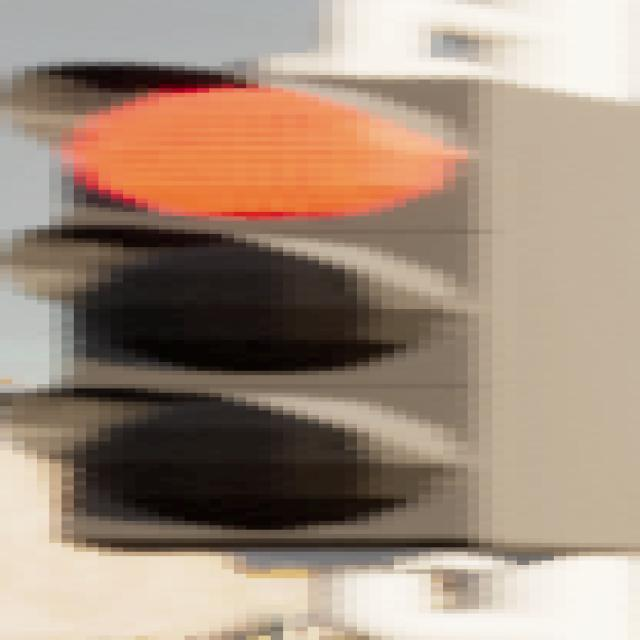red_light: (0, 49, 639, 577)
